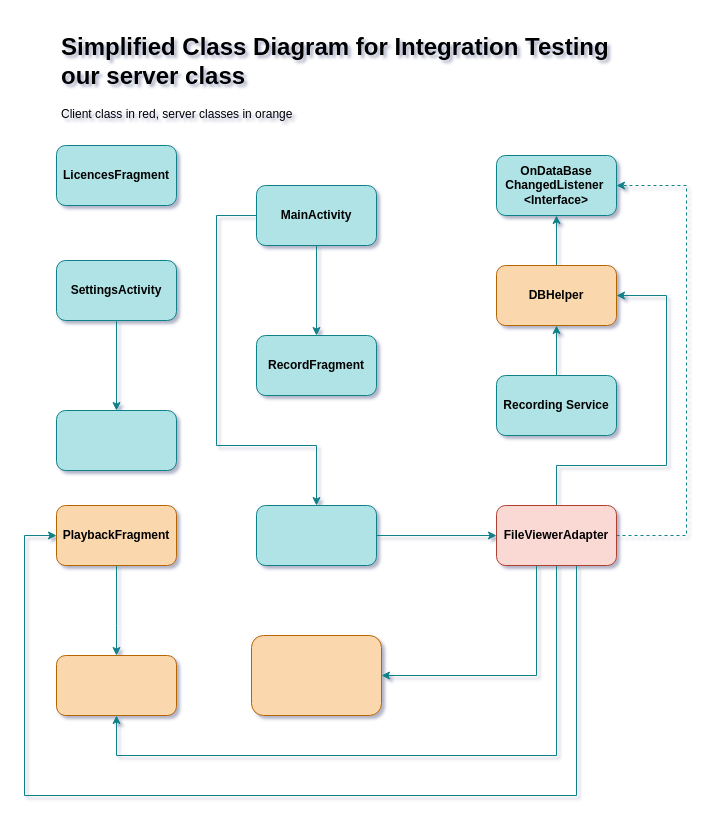
The diagram is 718 pixels wide and 827 high, and some of its shapes have lost their labels. The shapes that lost their labels are listed below. From the top down, each one's centre as x and y in pixels, then its label:
the point at 116,440: SettingsFragment
the point at 316,535: FileViewerFragment
the point at 116,685: Recording Item
the point at 316,675: CustomAlertDialog ForExtractedTest
